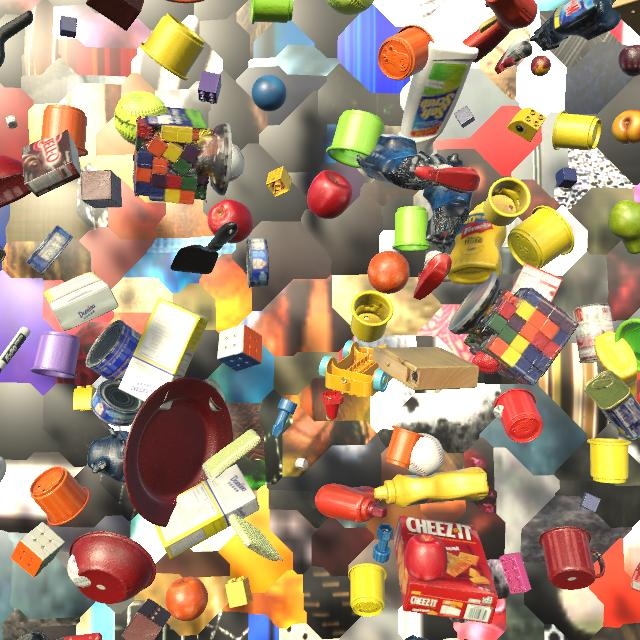ycb_002_master_chef_can: (85, 320, 144, 403), (0, 245, 6, 263)
ycb_003_cracker_box: (393, 515, 498, 624)
ycb_004_sugar_box: (118, 297, 209, 410), (155, 464, 259, 559), (44, 272, 119, 331)
ycb_005_tomato_soup_can: (572, 303, 615, 363), (203, 378, 226, 411)
ycb_006_mustard_bottle: (448, 201, 507, 285), (374, 467, 489, 508), (594, 331, 638, 399)
ycb_007_tuna_fish_can: (91, 379, 143, 427), (26, 225, 73, 275), (246, 238, 269, 288)
ycb_008_pudding_box: (21, 130, 81, 197)
ycb_009_gelatin_box: (510, 263, 563, 302), (631, 563, 640, 592)
ycb_010_potted_meat_can: (584, 370, 640, 440)
ycb_012_strawberry: (471, 351, 501, 374)
ycb_013_apple: (307, 170, 353, 219), (207, 199, 254, 244), (405, 533, 448, 582)
ycb_015_peach: (612, 109, 640, 144)
ycb_016_pear: (608, 200, 640, 254)
ycb_017_orange: (166, 577, 208, 621), (368, 251, 410, 294)
ycb_018_plum: (618, 45, 640, 77)
